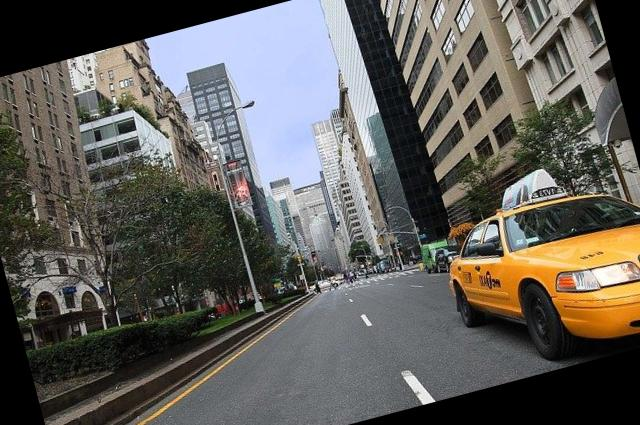taxi: (451, 197, 640, 368)
